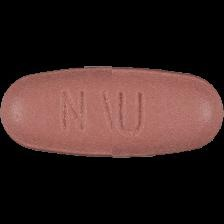54868-6042: (0, 0, 224, 224)
